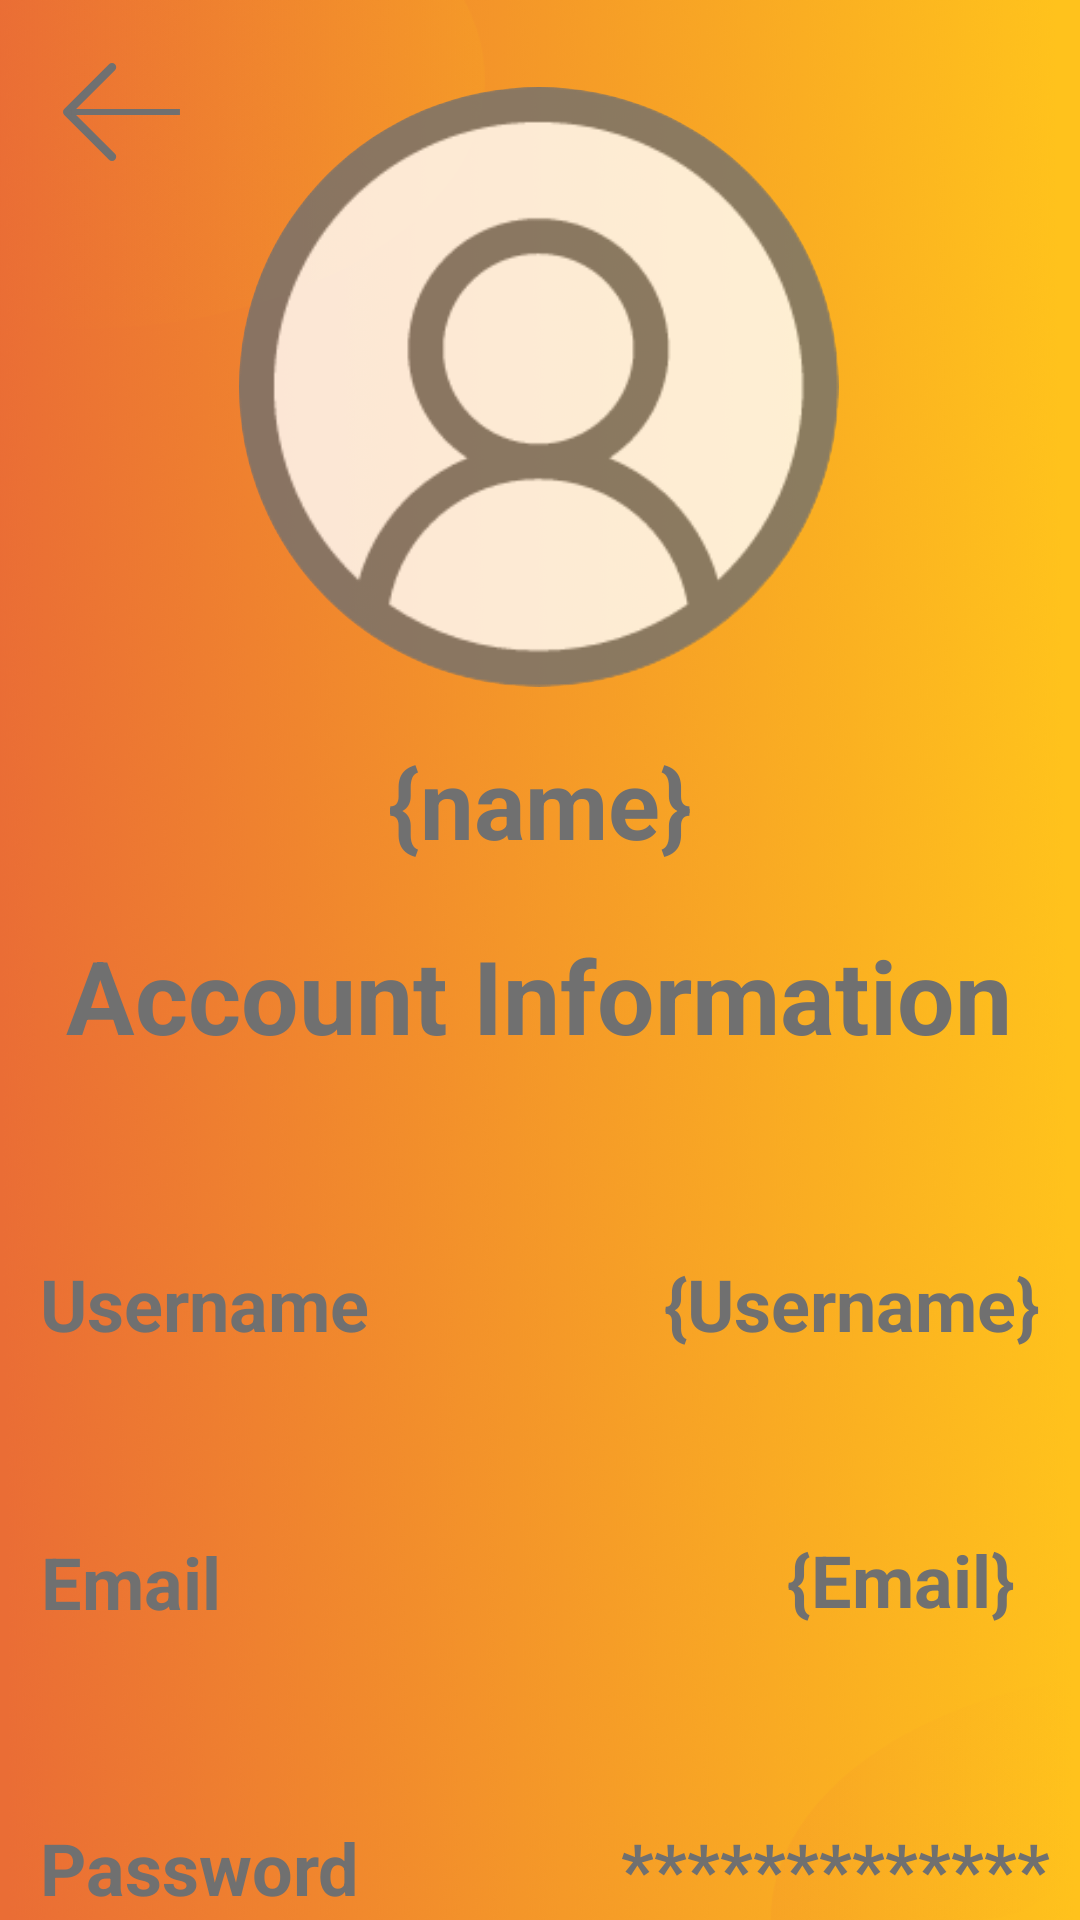

Icons on this 1080 x 1920 Android screen, each with the point to tap as [x,y]:
back arrow: [121,112]
